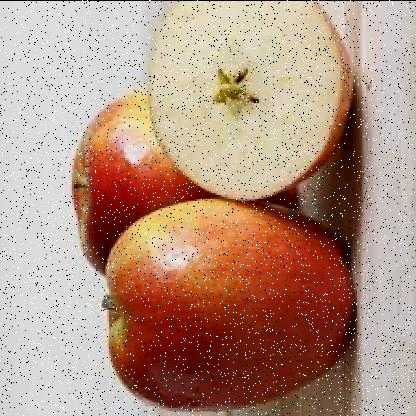apple: (107, 196, 352, 414), (72, 83, 226, 268)
damaged_apple: (153, 2, 355, 200)
